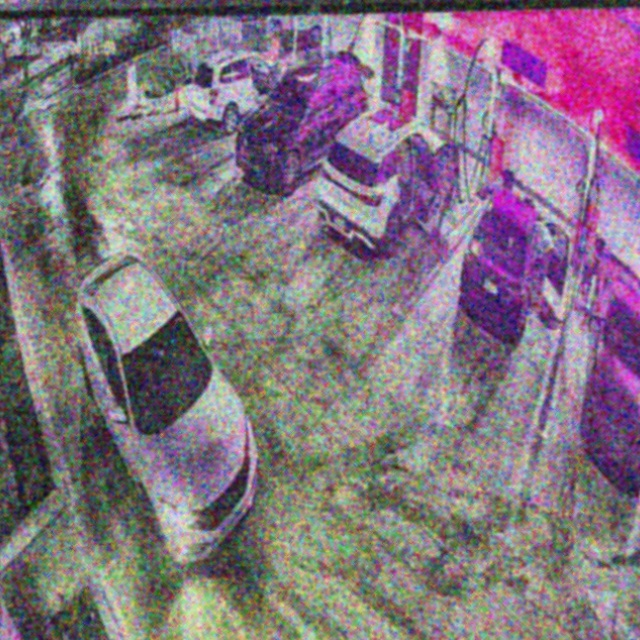Car: (76, 256, 259, 566), (320, 110, 458, 256), (237, 54, 369, 189), (460, 186, 572, 339)
